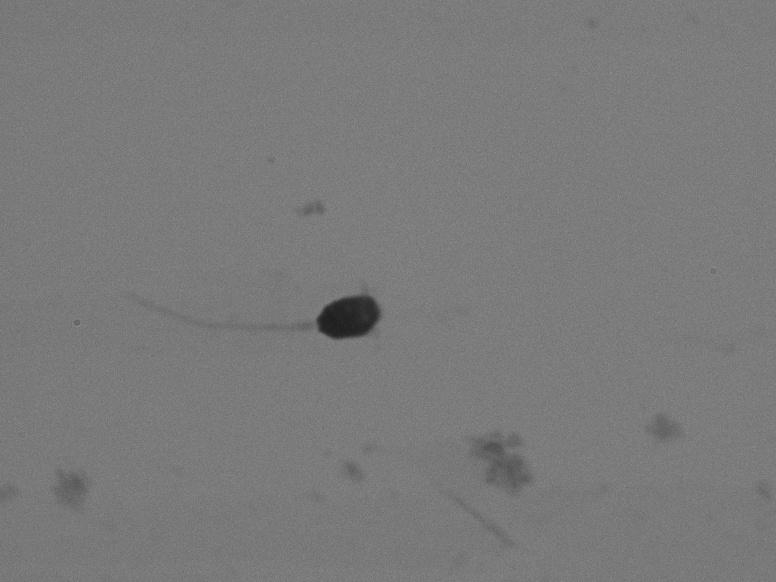Abnormal: (71, 243, 400, 373)
